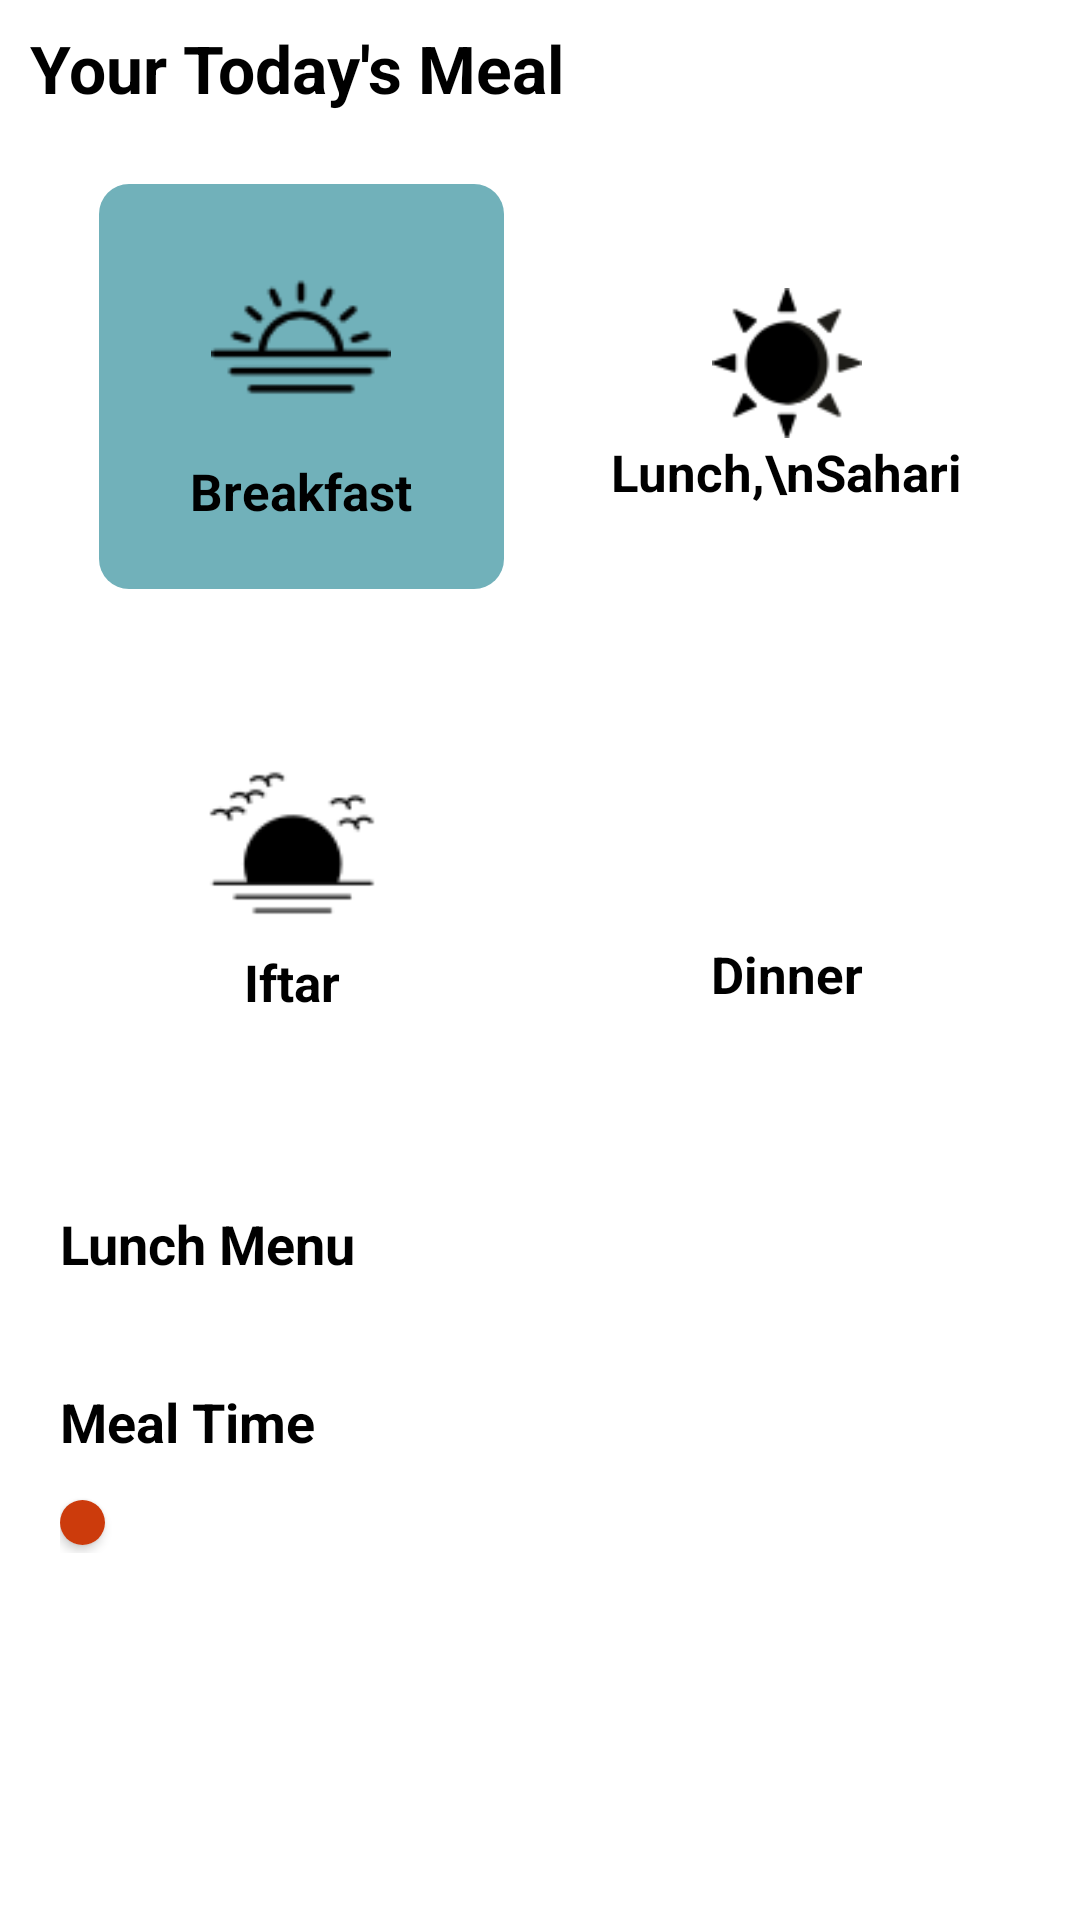

Where to tap for icons on this 1080×1920 app screen, as (x=x, y=y):
sun: (x=787, y=363)
sunrise: (x=301, y=337)
sunset: (x=291, y=843)
